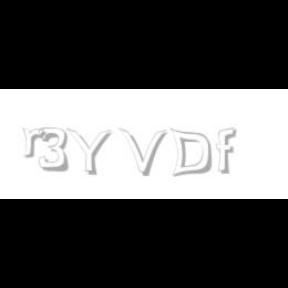3: (38, 128, 70, 172)
D: (170, 128, 212, 178)
V: (119, 128, 167, 176)
Y: (66, 128, 112, 176)
f: (216, 128, 240, 174)
r: (22, 128, 48, 158)
